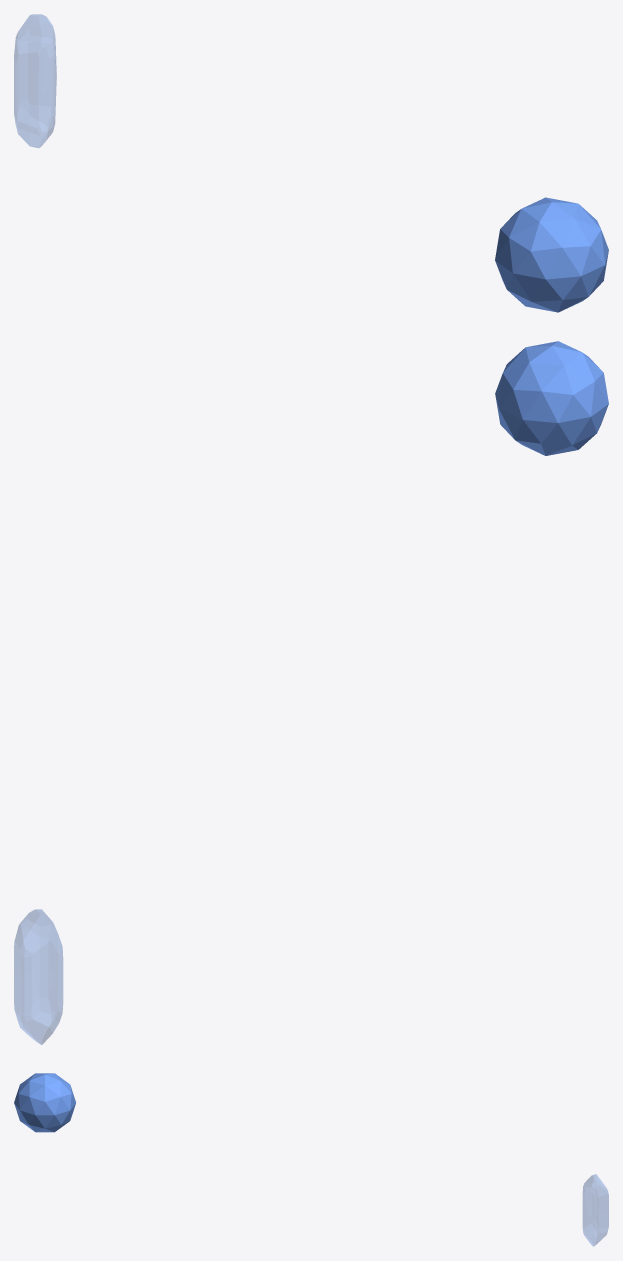
The model's file is crystar.gltf.
The picture shows the model from 3 angles, top to bottom: view 1: azimuth 30°, elevation 25°; view 2: azimuth 150°, elevation 25°; view 3: azimuth 270°, elevation 25°; orthographic projection. The views are drawn at different scales.
Parts seen in each view (by area): view 1: Icosphere, crystarLight.001; view 2: Icosphere, crystarLight.001; view 3: Icosphere, crystarLight.001.
Part boxes in pixels (x1,y1,x2,y2): Icosphere: [495, 197, 608, 312]; crystarLight.001: [14, 14, 56, 147]; Icosphere: [495, 341, 608, 455]; crystarLight.001: [14, 909, 62, 1044]; Icosphere: [14, 1073, 75, 1132]; crystarLight.001: [583, 1174, 608, 1246].
Bounding box in the file's own units: 4.76 × 15.19 × 47.84.
